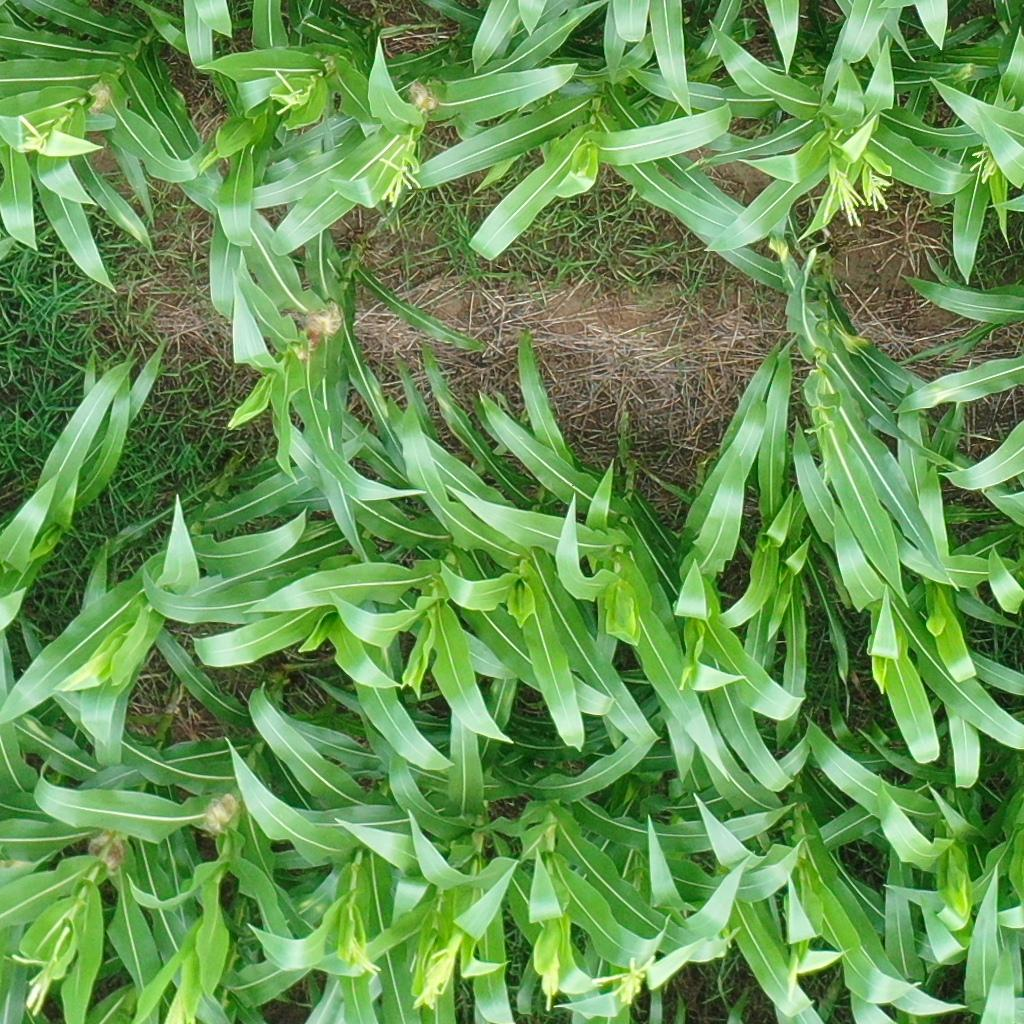Tassel: (412, 926, 470, 1010), (584, 955, 659, 1005), (7, 952, 64, 1014), (820, 165, 868, 232), (374, 149, 425, 207), (266, 67, 311, 121), (527, 945, 564, 1010), (335, 935, 384, 981), (13, 112, 51, 154), (865, 170, 897, 215), (966, 146, 998, 187)
